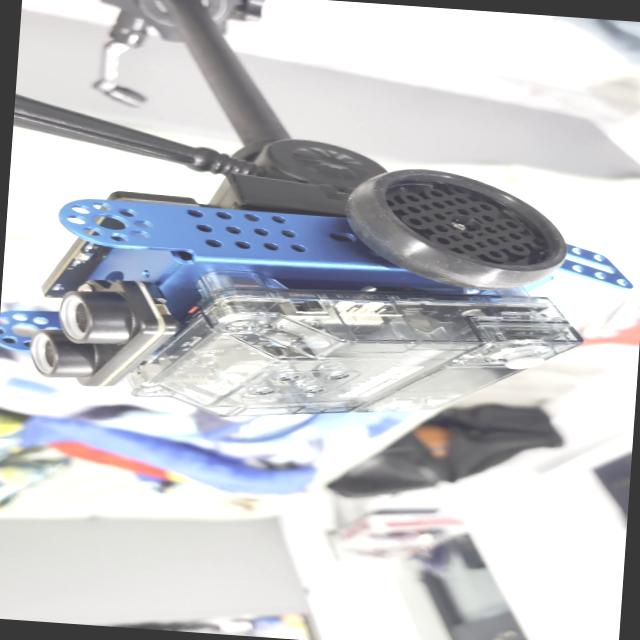mbot-detection: (0, 129, 640, 455)
